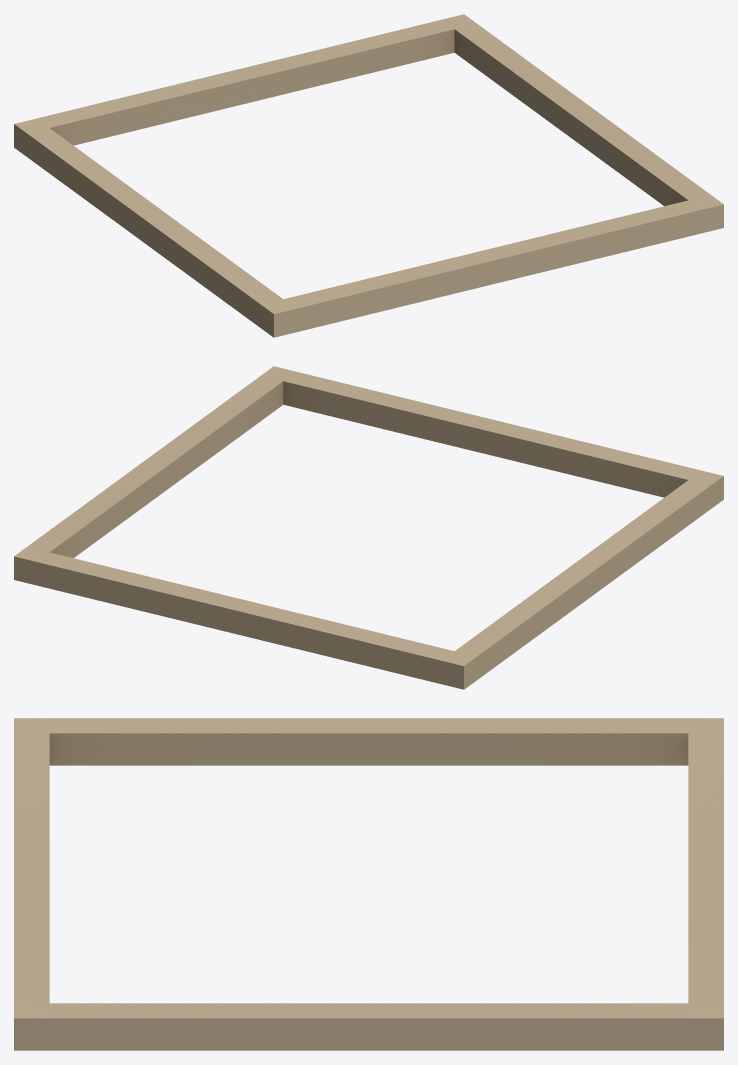
The picture shows the model from 3 angles, top to bottom: view 1: azimuth 30°, elevation 25°; view 2: azimuth 150°, elevation 25°; view 3: azimuth 270°, elevation 25°; orthographic projection. The views are drawn at different scales.
Visible parts, largest first — view 1: Deco_ring_4; view 2: Deco_ring_4; view 3: Deco_ring_4.
Part boxes in pixels (x1,y1,x2,y2): Deco_ring_4: (14,14,723,337); Deco_ring_4: (14,366,723,689); Deco_ring_4: (14,718,723,1050).
Bounding box in the file's own units: 20 × 1 × 20.
Materials: 1 (1 with a texture image).
